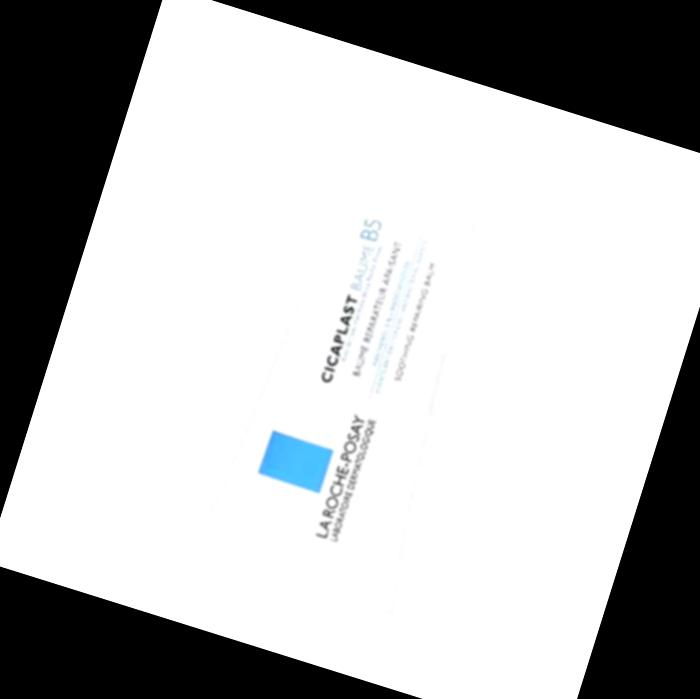cosmetic: (179, 80, 543, 631)
